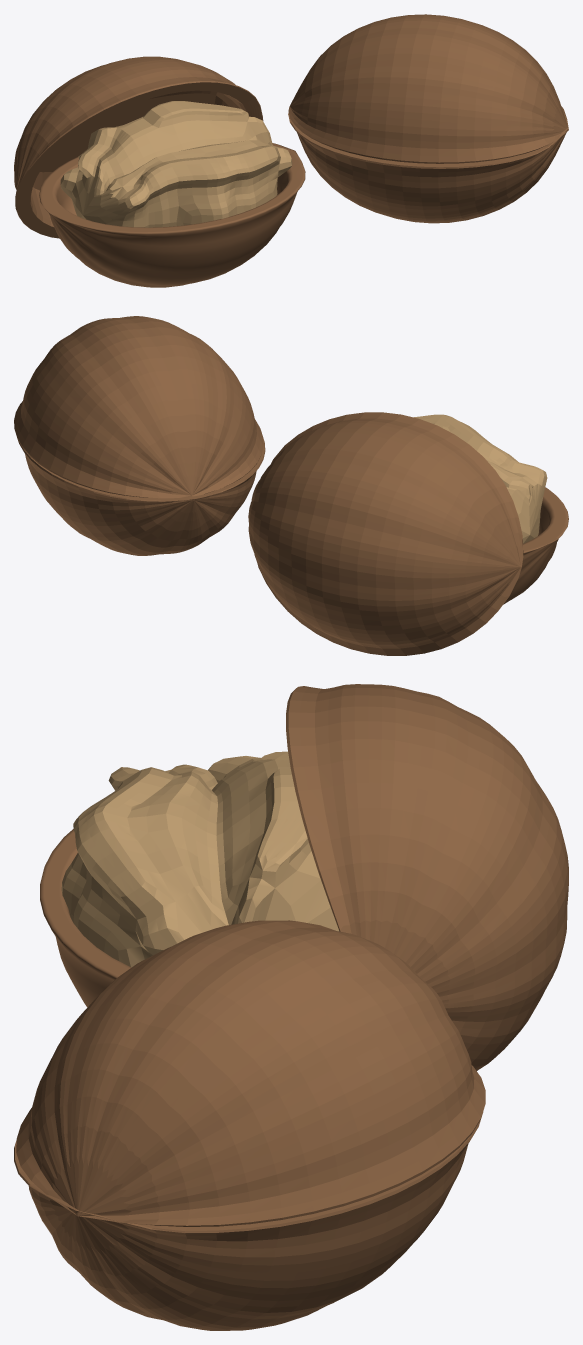
The model's file is Walnut_UV2 (1).fbx.
The picture shows the model from 3 angles, top to bottom: view 1: azimuth 30°, elevation 25°; view 2: azimuth 150°, elevation 25°; view 3: azimuth 270°, elevation 25°; orthographic projection. The views are drawn at different scales.
Visible parts, largest first — view 1: Sphere001; view 2: Sphere001; view 3: Sphere001.
Boxes of the visible parts, x1,y1,x2,y2 form: Sphere001: [14, 14, 568, 287]; Sphere001: [14, 316, 568, 655]; Sphere001: [14, 684, 568, 1330].
Size of the model in its own units: 39.04 by 14.29 by 20.
